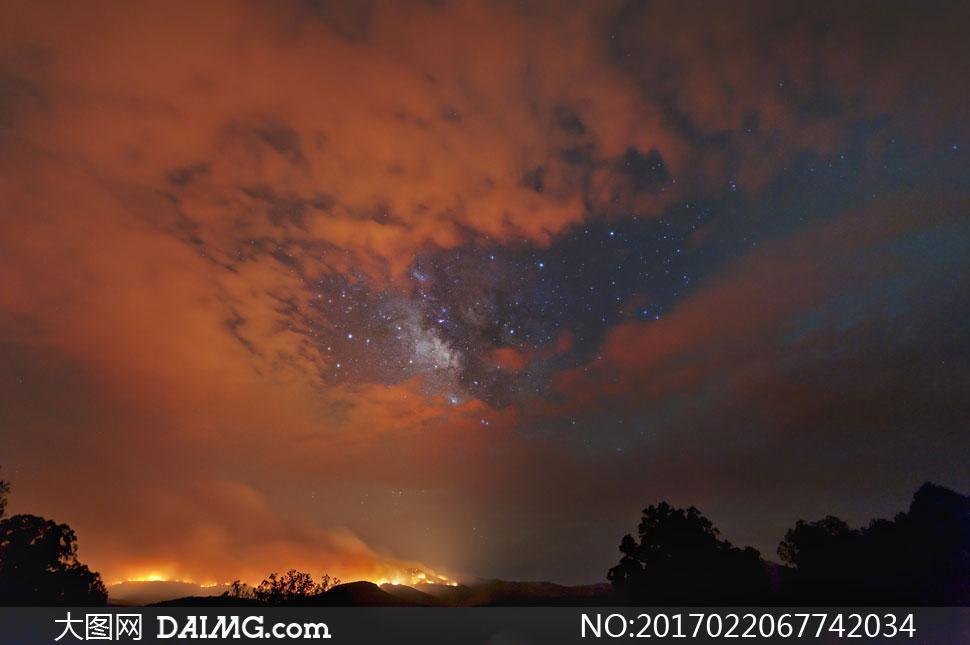fire: (109, 568, 231, 593), (366, 561, 464, 592)
